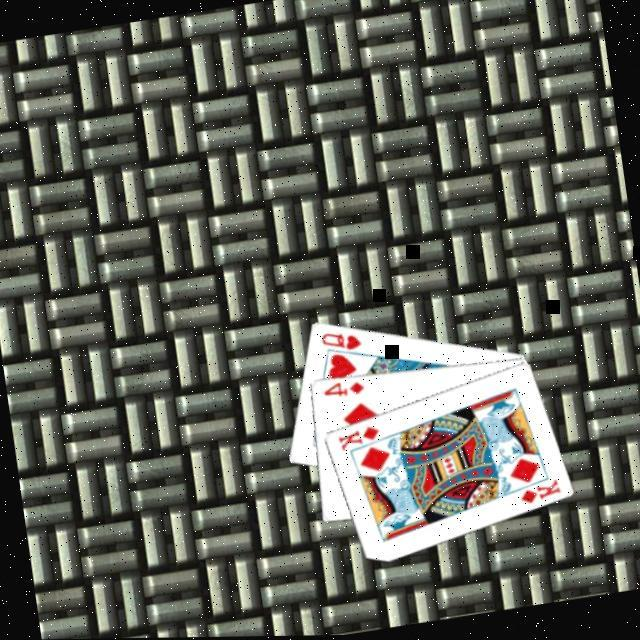4D: (318, 374, 366, 402)
KD: (514, 474, 564, 508), (332, 421, 383, 454)
QH: (316, 324, 364, 356)
